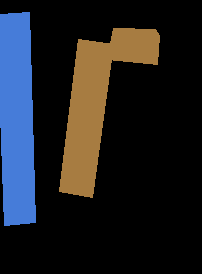parkingspot: (59, 39, 113, 197), (0, 12, 35, 225), (107, 28, 159, 64)
